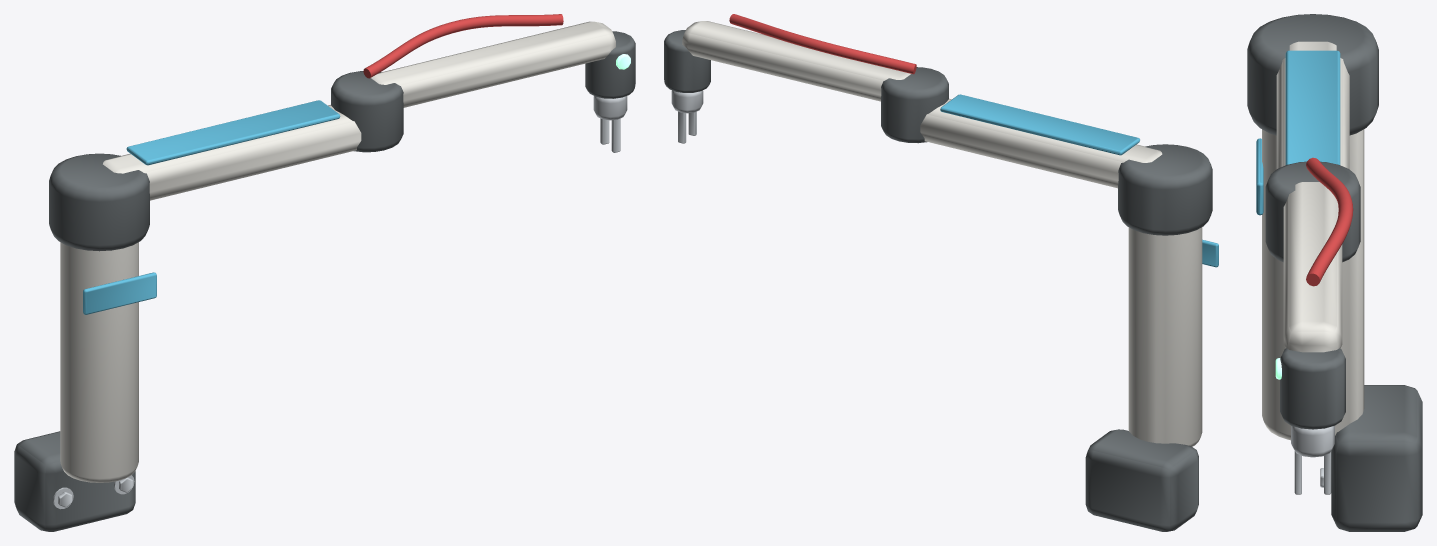
File: extractor_camilla.glb
3 renders of one model, left to right at view 1: azimuth 30°, elevation 25°; view 2: azimuth 150°, elevation 25°; view 3: azimuth 270°, elevation 25°, orthographic. The views are drawn at different scales.
Parts seen in each view (by area): view 1: ext_columna, ext_brazo2, ext_hombro_motor, ext_brazo1, ext_abrazadera, ext_brazo1_tapa, ext_codo_motor, ext_cable, ext_muneca, ext_columna_franja, ext_pinza_base; view 2: ext_columna, ext_abrazadera, ext_brazo2, ext_hombro_motor, ext_brazo1, ext_brazo1_tapa, ext_codo_motor, ext_cable, ext_muneca; view 3: ext_abrazadera, ext_columna, ext_brazo2, ext_hombro_motor, ext_brazo1_tapa, ext_muneca, ext_codo_motor, ext_brazo1, ext_cable, ext_pinza_base, ext_columna_franja, ext_dedo-1 (+1 smaller).
Part boxes in pixels (x1,y1,x2,y2): ext_columna: (60, 242, 138, 482); ext_brazo2: (371, 21, 615, 107); ext_hombro_motor: (49, 153, 149, 251); ext_brazo1: (103, 105, 361, 200); ext_abrazadera: (14, 431, 135, 531); ext_brazo1_tapa: (126, 100, 340, 165); ext_codo_motor: (331, 71, 403, 152); ext_cable: (363, 14, 563, 78); ext_muneca: (585, 31, 635, 98); ext_columna_franja: (83, 272, 156, 314); ext_pinza_base: (593, 96, 627, 120); ext_columna: (1128, 227, 1202, 446); ext_abrazadera: (1085, 429, 1198, 531); ext_brazo2: (682, 21, 910, 101); ext_hombro_motor: (1118, 144, 1212, 235); ext_brazo1: (920, 98, 1162, 188); ext_brazo1_tapa: (940, 94, 1139, 155); ext_codo_motor: (881, 67, 948, 143); ext_cable: (729, 14, 916, 74); ext_muneca: (664, 30, 710, 92); ext_abrazadera: (1331, 385, 1422, 531); ext_columna: (1262, 129, 1364, 440); ext_brazo2: (1283, 182, 1342, 352); ext_hombro_motor: (1247, 14, 1378, 135); ext_brazo1_tapa: (1285, 50, 1340, 164); ext_muneca: (1280, 348, 1345, 429); ext_codo_motor: (1265, 161, 1360, 262); ext_brazo1: (1276, 41, 1349, 169); ext_cable: (1306, 157, 1353, 286); ext_pinza_base: (1291, 426, 1334, 457); ext_columna_franja: (1256, 138, 1263, 215); ext_dedo-1: (1294, 451, 1301, 494).
Size of the model in its own units: 0.3107 by 0.2107 by 0.0624.
